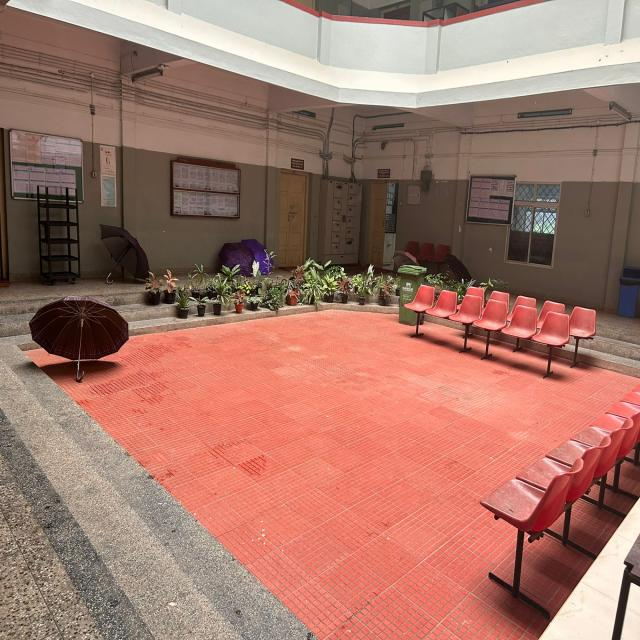chair ahead at: (482, 473, 572, 530)
